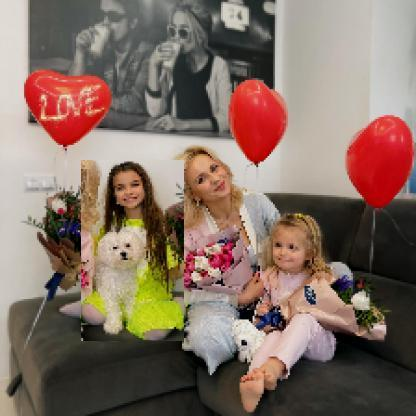child: (234, 214, 338, 415), (83, 162, 187, 344)
